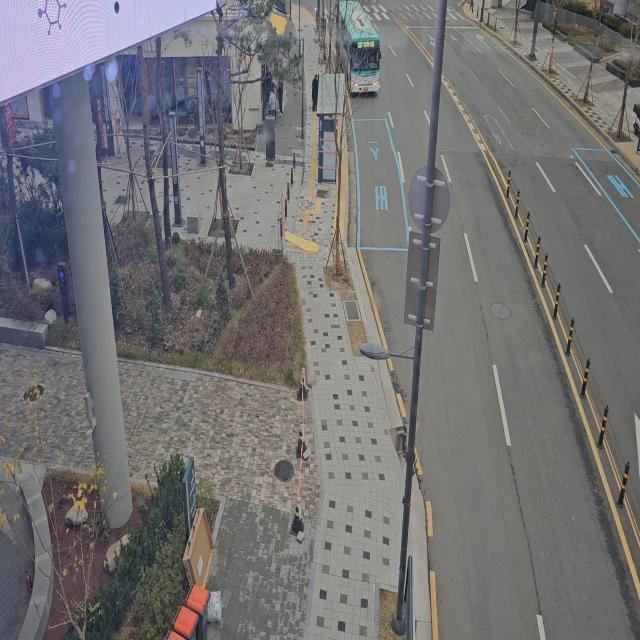Bus: (326, 0, 384, 107)
